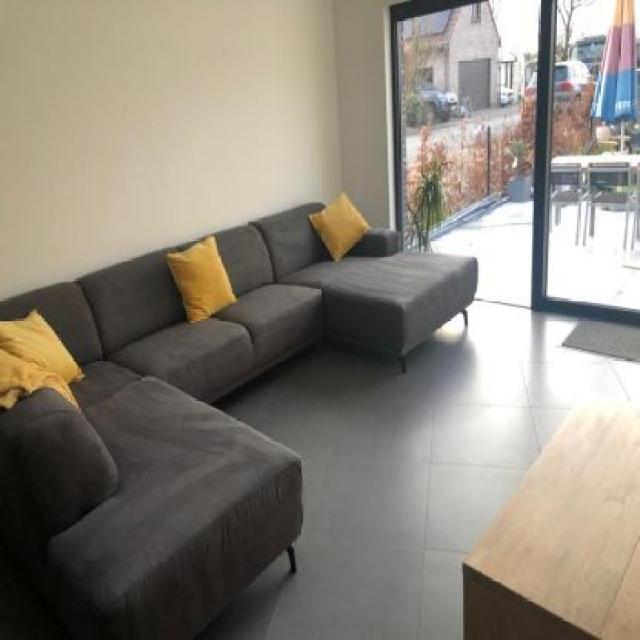Floor: (193, 300, 640, 640)
